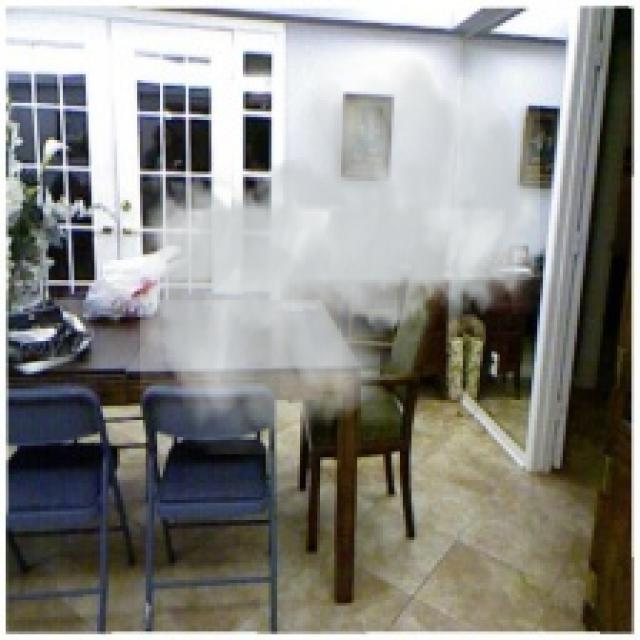smoke: (140, 34, 540, 454)
